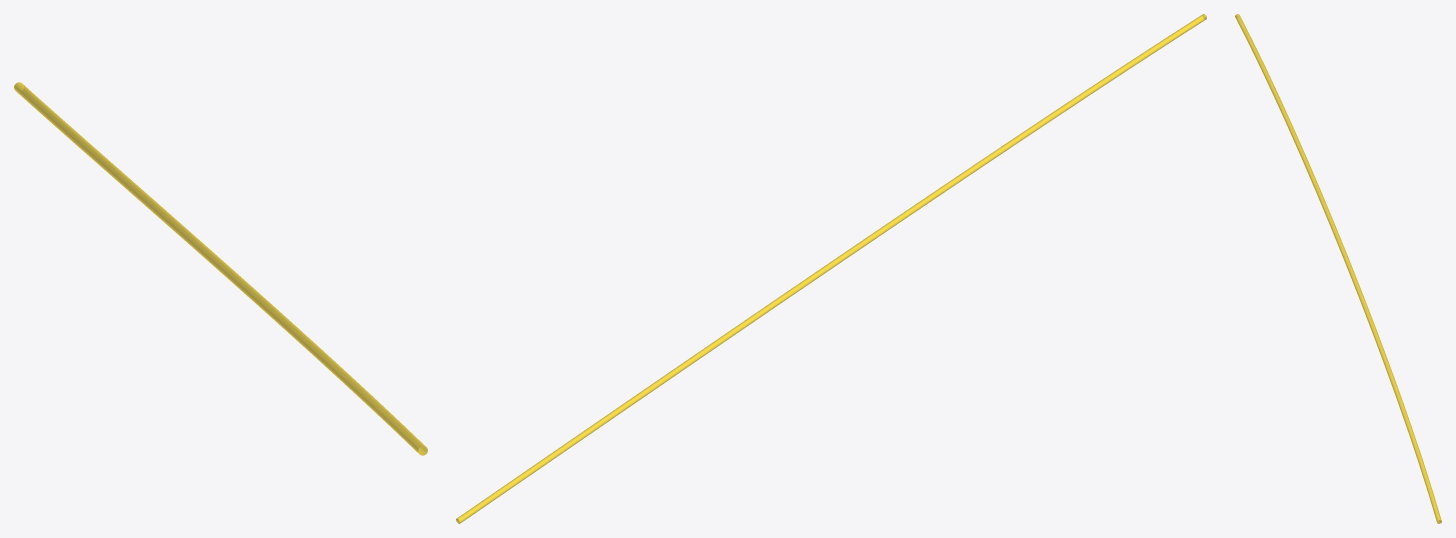
The model's file is Event_75125125_track_25.fbx.
3 views of the same model, side by side, from view 1: azimuth 90°, elevation 25°; view 2: azimuth 210°, elevation 25°; view 3: azimuth 270°, elevation 25° (orthographic). The views are drawn at different scales.
Visible parts, largest first — view 1: Model; view 2: Model; view 3: Model.
Boxes of the visible parts, x1=… form: Model: x1=14, y1=82, x2=427, y2=455; Model: x1=456, y1=14, x2=1206, y2=523; Model: x1=1235, y1=14, x2=1441, y2=523.
Bounding box in the file's own units: 6.46 × 1.46 × 1.64.
